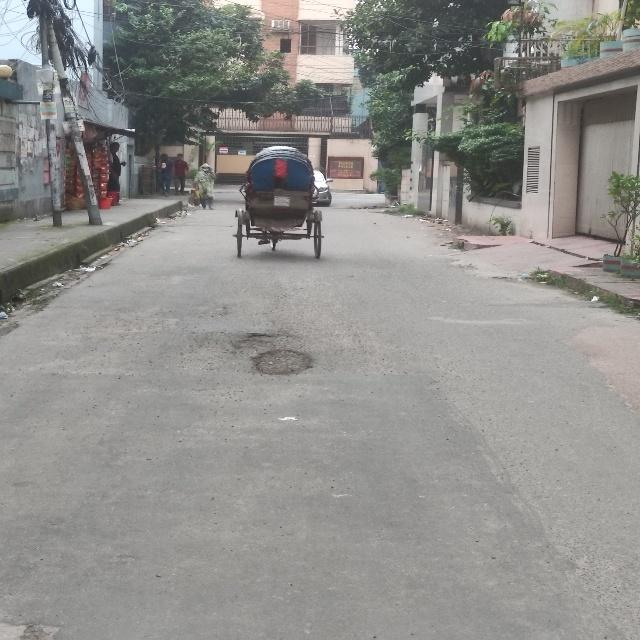Pothole: (251, 340, 316, 395)
